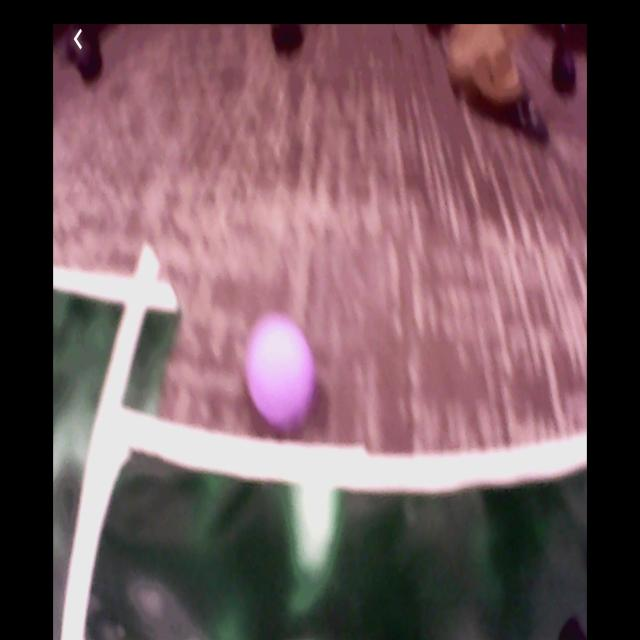ball: (247, 317, 313, 429)
